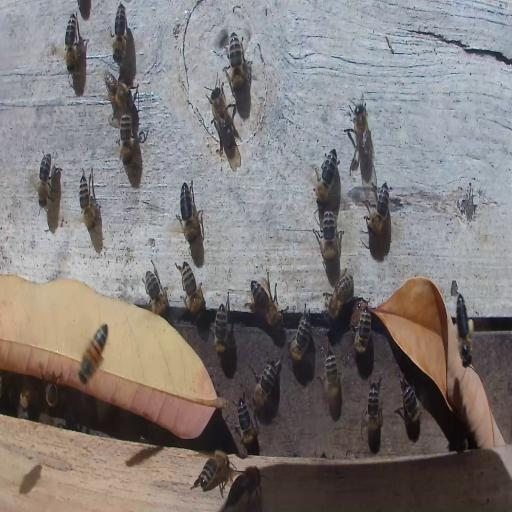bee: (248, 277, 285, 330), (77, 322, 108, 385), (176, 177, 204, 245), (208, 86, 238, 149), (453, 290, 475, 370), (350, 100, 374, 170), (324, 275, 356, 324), (77, 171, 101, 233), (313, 147, 338, 205), (287, 304, 312, 362), (177, 262, 204, 315), (316, 209, 342, 264), (322, 345, 342, 416), (226, 465, 262, 504), (235, 396, 258, 456), (252, 359, 278, 412), (366, 181, 391, 236), (195, 454, 232, 490), (144, 262, 169, 314), (398, 376, 422, 429), (104, 72, 133, 112), (364, 381, 382, 437), (352, 306, 373, 354), (228, 35, 244, 95), (118, 112, 135, 166), (65, 13, 79, 76), (211, 300, 229, 348), (112, 3, 126, 62), (37, 150, 51, 208), (18, 388, 34, 418), (46, 380, 59, 408)
